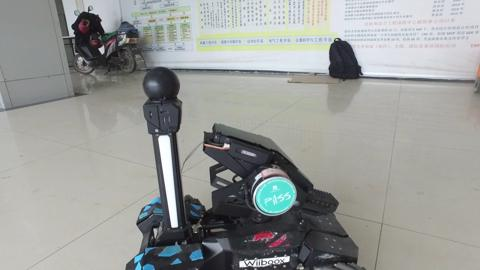bag: (314, 43, 371, 98)
chariot: (129, 67, 342, 270)
